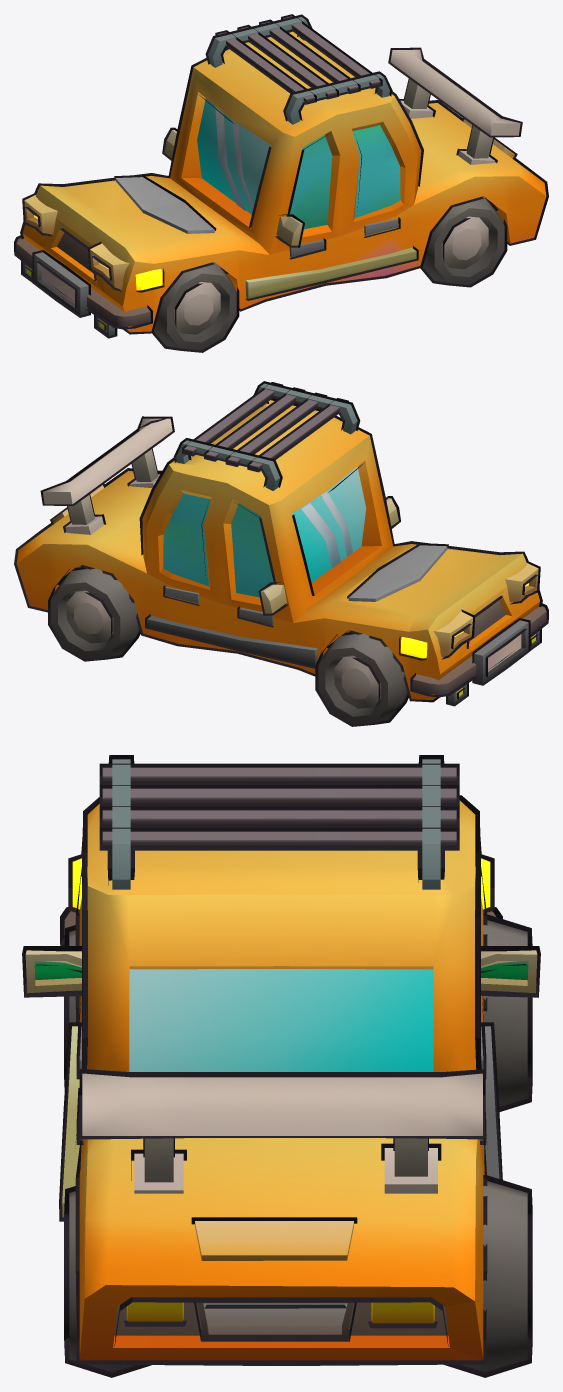
File: Free_LowPoly_Stylized_Casual_Basic_GameReady_Car.glb
The picture shows the model from 3 angles, top to bottom: view 1: azimuth 30°, elevation 25°; view 2: azimuth 150°, elevation 25°; view 3: azimuth 270°, elevation 25°; orthographic projection. The views are drawn at different scales.
Parts seen in each view (by area): view 1: LowPolyCar_Designed2_LowPolyCar_Material_0; view 2: LowPolyCar_Designed2_LowPolyCar_Material_0; view 3: LowPolyCar_Designed2_LowPolyCar_Material_0.
Part boxes in pixels (x1,y1,x2,y2): LowPolyCar_Designed2_LowPolyCar_Material_0: [14, 14, 548, 352]; LowPolyCar_Designed2_LowPolyCar_Material_0: [14, 381, 548, 726]; LowPolyCar_Designed2_LowPolyCar_Material_0: [22, 755, 540, 1377].
Size of the model in its own units: 0.1474 by 0.0717 by 0.0739.
Materials: 1 (1 with a texture image).
